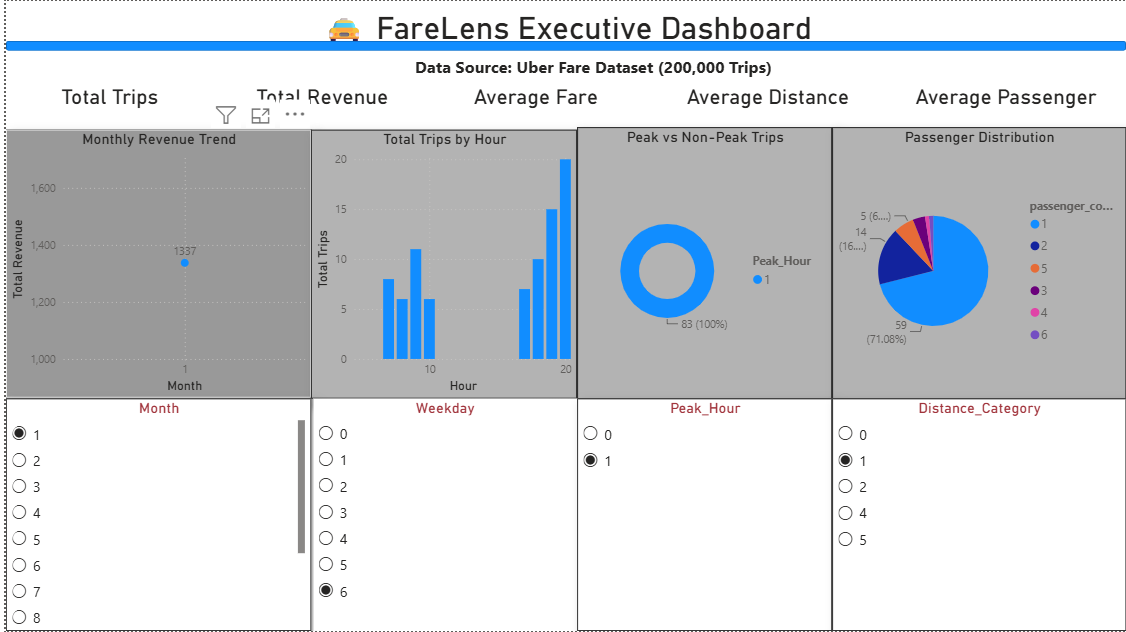

The page's visual inventory and layout, read from the dashboard file:
{"tool":"powerbi","page":{"name":"Page 1","canvas":[1280,720],"ordinal":0},"visuals":[{"type":"kpi","fields":{"Indicator":["prediction_output.Total Trips"]},"box":[0,95.7,237.1,51.4],"z":0},{"type":"kpi","fields":{"Indicator":["prediction_output.Average Fare"]},"box":[475.7,95.7,260,51.4],"z":1000},{"type":"kpi","fields":{"Indicator":["prediction_output.Total Revenue"]},"box":[237.1,95.7,248.6,51.4],"z":2000},{"type":"kpi","fields":{"Indicator":["prediction_output.Average Distance"]},"box":[735.7,95.7,270,51.4],"z":3000},{"type":"kpi","fields":{"Indicator":["prediction_output.Average Passenger"]},"box":[1005.7,95.7,274.3,48.6],"z":4000},{"type":"lineChart","title":"Monthly Revenue Trend","fields":{"Category":["prediction_output.Month"],"Y":["prediction_output.Total Revenue"]},"box":[0,147.1,348.6,307.1],"z":5000},{"type":"clusteredColumnChart","fields":{"Category":["prediction_output.Hour"],"Y":["prediction_output.Total Trips"]},"box":[348.6,147.1,304.3,307.1],"z":6000},{"type":"donutChart","title":"Peak vs Non-Peak Trips","fields":{"Category":["prediction_output.Peak_Hour"],"Y":["prediction_output.Total Trips"]},"box":[652.9,144.3,291.4,310],"z":7000},{"type":"pieChart","title":"Passenger Distribution","fields":{"Category":["prediction_output.passenger_count"],"Y":["prediction_output.Total Trips"]},"box":[944.3,144.3,335.7,310],"z":8000},{"type":"listSlicer","fields":{"Values":["prediction_output.Month"]},"box":[0,454.3,348.6,265.7],"z":9000},{"type":"listSlicer","fields":{"Values":["prediction_output.Weekday"]},"box":[351.4,454.3,301.4,265.7],"z":10000},{"type":"listSlicer","fields":{"Values":["prediction_output.Peak_Hour"]},"box":[652.9,454.3,291.4,265.7],"z":11000},{"type":"listSlicer","fields":{"Values":["prediction_output.Distance_Category"]},"box":[944.3,454.3,335.7,265.7],"z":12000},{"type":"shape","title":"🚖 FareLens Executive Dashboard","box":[0,0,1280,57.1],"z":13000},{"type":"textbox","box":[100,57.1,1142.9,38.6],"z":14000}]}

Visuals, with their boxes on the page's 1280x720 design canvas (x1, y1, x2, y2). These are canvas units, not pixel positions in the 1126x632 screenshot, which may show the page scaled, cropped or inside an application window:
kpi - prediction_output.Total Trips: [0, 96, 237, 147]
kpi - prediction_output.Average Fare: [476, 96, 736, 147]
kpi - prediction_output.Total Revenue: [237, 96, 486, 147]
kpi - prediction_output.Average Distance: [736, 96, 1006, 147]
kpi - prediction_output.Average Passenger: [1006, 96, 1280, 144]
"Monthly Revenue Trend" lineChart: [0, 147, 349, 454]
clusteredColumnChart - prediction_output.Hour x prediction_output.Total Trips: [349, 147, 653, 454]
"Peak vs Non-Peak Trips" donutChart: [653, 144, 944, 454]
"Passenger Distribution" pieChart: [944, 144, 1280, 454]
listSlicer - prediction_output.Month: [0, 454, 349, 720]
listSlicer - prediction_output.Weekday: [351, 454, 653, 720]
listSlicer - prediction_output.Peak_Hour: [653, 454, 944, 720]
listSlicer - prediction_output.Distance_Category: [944, 454, 1280, 720]
"🚖 FareLens Executive Dashboard" shape: [0, 0, 1280, 57]
textbox: [100, 57, 1243, 96]
